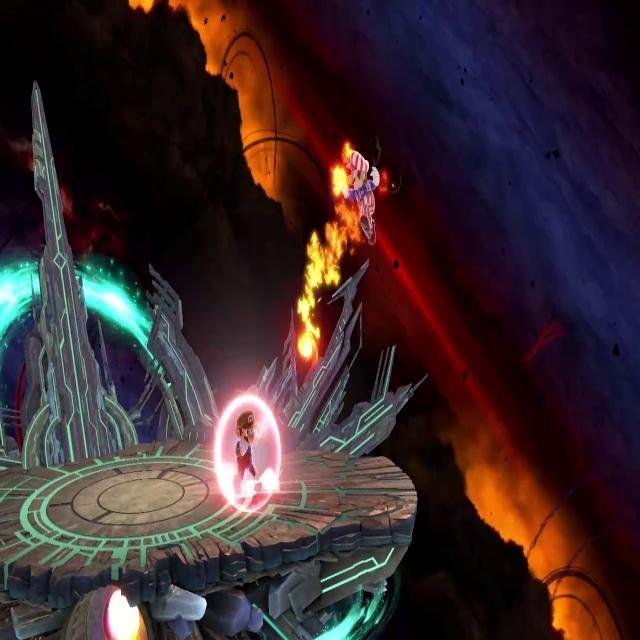Mario-NB: (337, 147, 386, 248)
Mario-guard: (230, 404, 266, 502)
